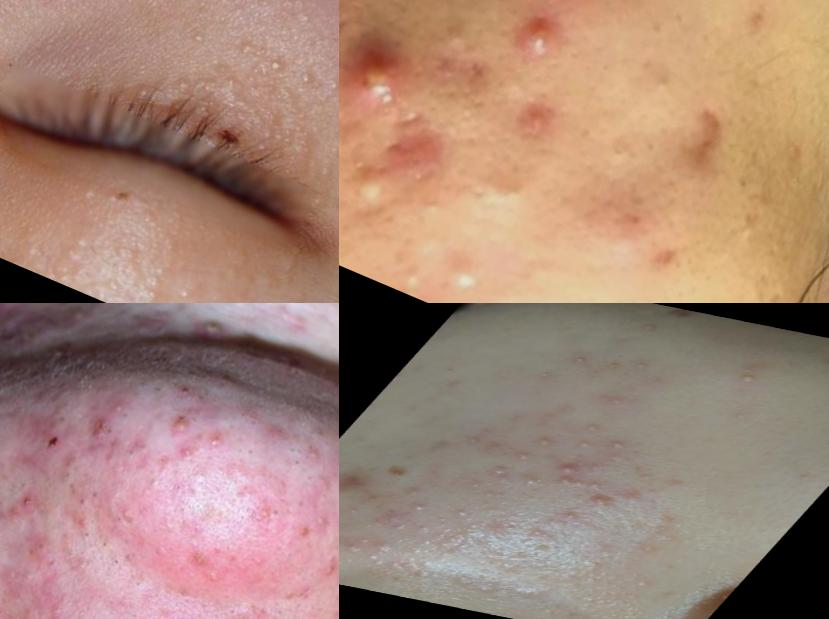acne_scars: (500, 5, 578, 79)
blackhead: (113, 429, 165, 476), (179, 457, 228, 500), (51, 465, 87, 501), (78, 480, 114, 514), (65, 489, 99, 518), (92, 530, 116, 556), (105, 551, 130, 575), (237, 442, 262, 466), (73, 525, 95, 546)
cystic: (340, 22, 433, 135)
keloid: (1, 304, 79, 334)
milium: (7, 198, 227, 304), (201, 3, 340, 119), (210, 70, 340, 159), (150, 43, 274, 126), (262, 114, 340, 219), (55, 161, 113, 215)
papular: (172, 533, 243, 599), (238, 486, 299, 543), (8, 531, 68, 587), (73, 412, 117, 456), (99, 390, 140, 432), (293, 434, 331, 472), (302, 504, 340, 540), (10, 486, 45, 523), (340, 464, 376, 497), (312, 551, 340, 587), (1, 396, 14, 455)
purulent: (715, 355, 798, 391), (535, 458, 604, 491), (532, 508, 592, 537), (160, 409, 201, 447), (193, 424, 234, 461), (193, 312, 231, 349), (576, 491, 627, 516), (482, 462, 528, 483), (620, 357, 661, 377), (629, 319, 670, 338), (561, 351, 601, 370), (552, 436, 594, 454), (603, 435, 638, 454), (500, 447, 537, 461), (532, 435, 557, 449)
whitehead: (494, 83, 569, 161), (340, 150, 409, 226), (99, 481, 167, 548), (340, 529, 438, 575), (407, 174, 468, 230), (380, 511, 467, 545), (600, 114, 645, 178), (495, 163, 542, 215), (440, 252, 490, 297), (386, 249, 438, 292), (644, 60, 688, 108), (617, 568, 672, 592), (734, 219, 765, 254), (445, 505, 482, 521), (577, 421, 609, 438), (405, 500, 434, 513)
